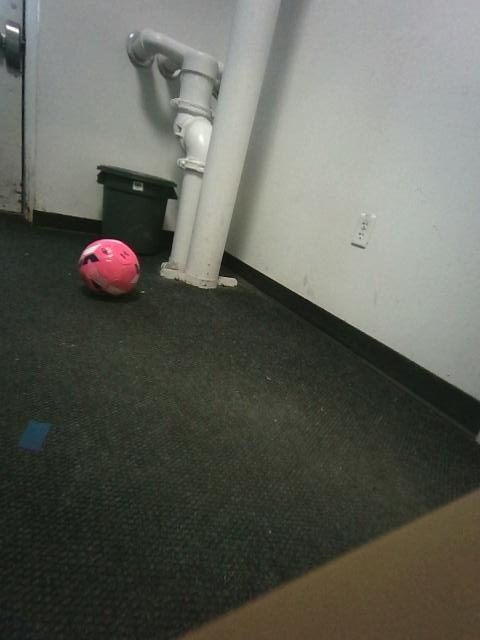ball: (78, 239, 139, 295)
